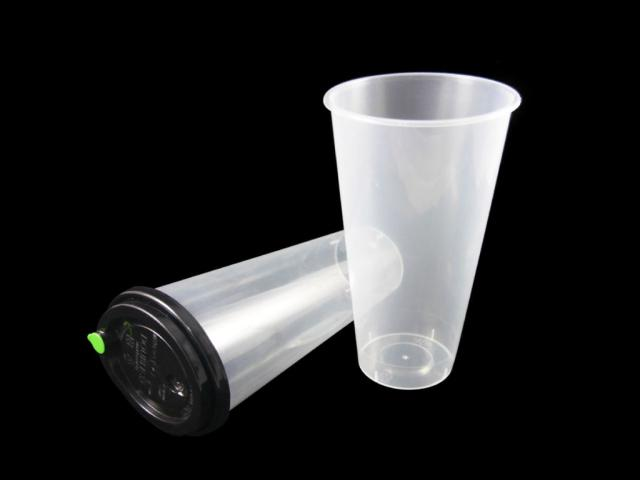cup: (324, 73, 521, 389), (150, 229, 353, 414)
